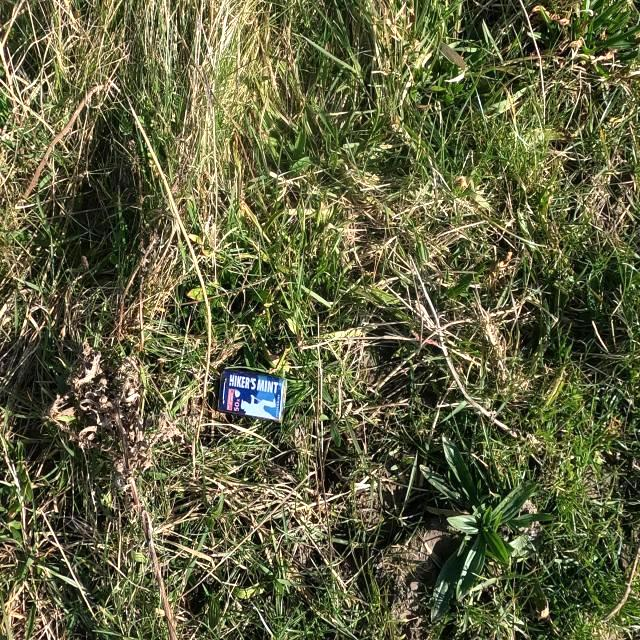Plastic: (216, 368, 288, 424)
